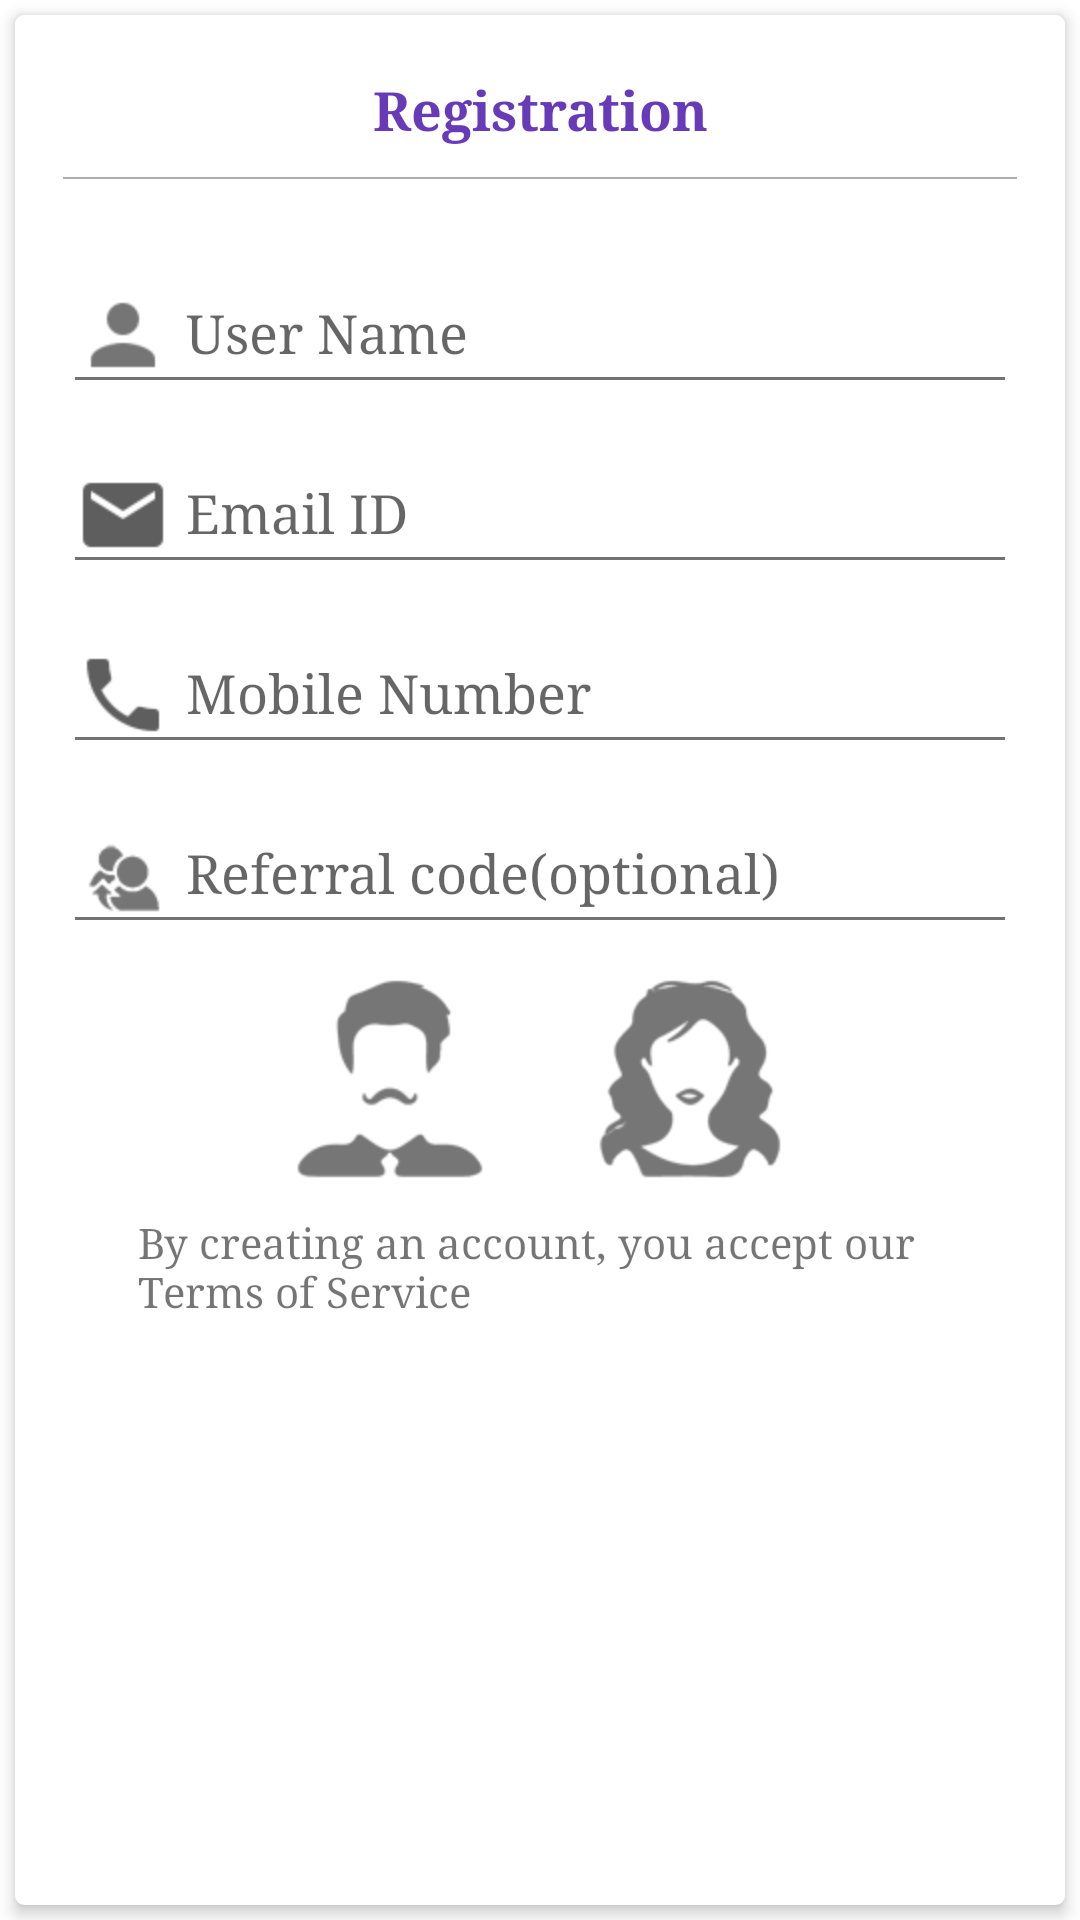

Point at icon controls on the screen. Image size 1080 × 1920, points as (x=x, y=y).
female: (x=690, y=1079)
male: (x=390, y=1079)
